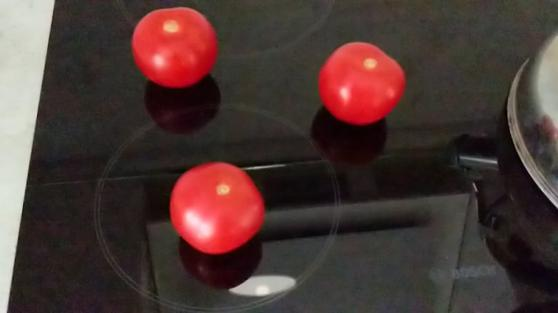tomato: (168, 160, 267, 255), (320, 41, 409, 126), (134, 8, 218, 90)
